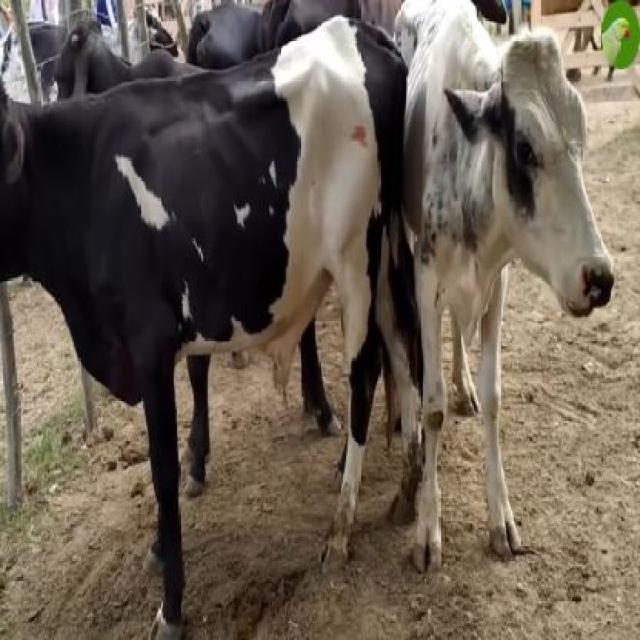Cow: (394, 0, 612, 566)
